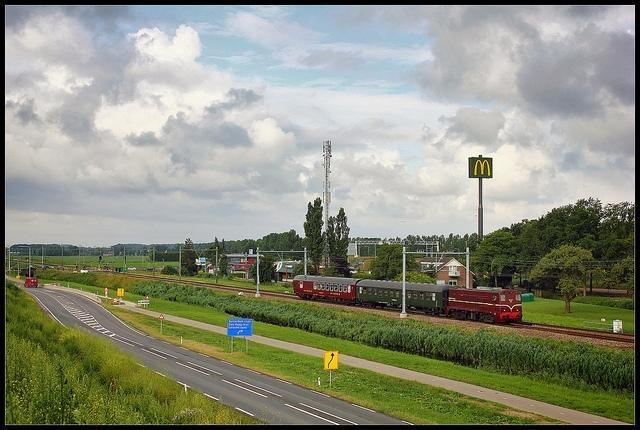truck: (24, 277, 38, 288)
